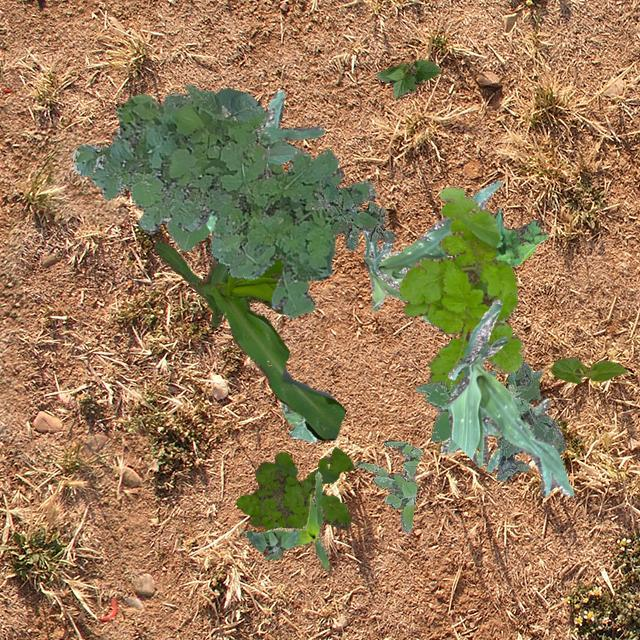crop: (153, 162, 344, 440), (447, 298, 572, 496), (162, 84, 298, 250), (361, 180, 501, 324), (205, 90, 322, 232), (240, 471, 330, 568), (376, 58, 440, 98), (550, 356, 626, 382), (280, 401, 318, 442)
weed: (70, 92, 374, 318), (398, 186, 522, 390), (235, 446, 352, 530), (434, 396, 548, 472), (496, 360, 564, 480), (354, 438, 422, 532), (310, 173, 392, 250), (492, 208, 546, 322), (414, 368, 496, 442), (245, 530, 298, 558), (508, 384, 530, 412)
